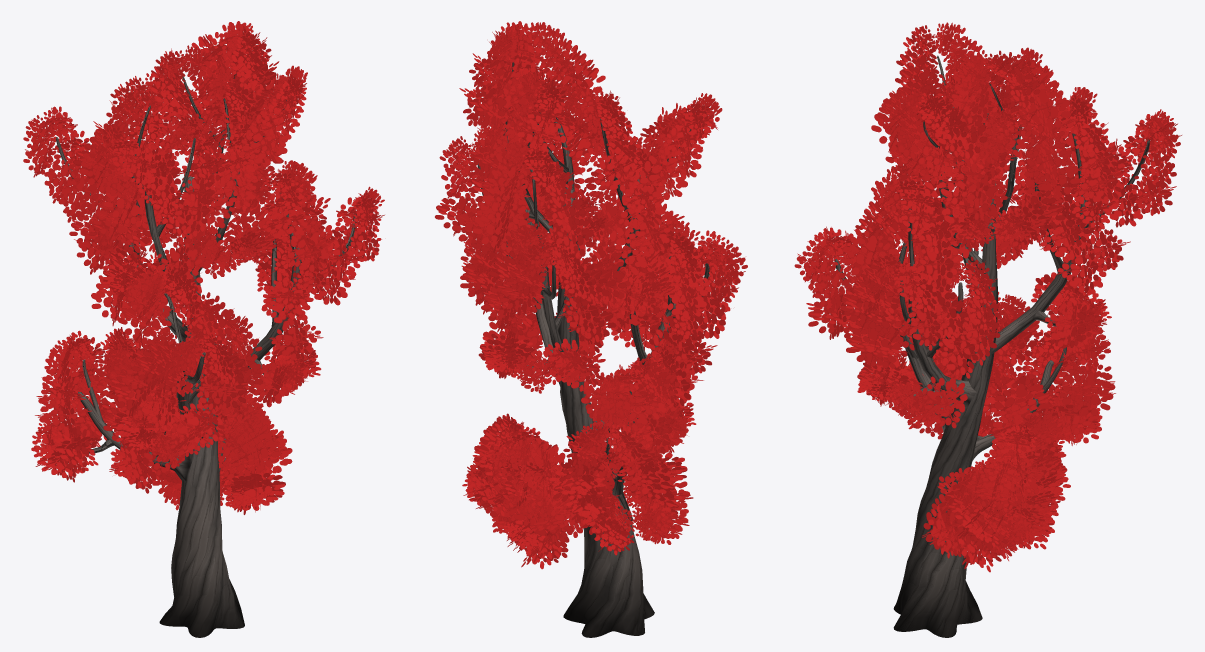
The model's file is TwistedTree_4.glb.
The picture shows the model from 3 angles, left to right: view 1: azimuth 30°, elevation 25°; view 2: azimuth 150°, elevation 25°; view 3: azimuth 270°, elevation 25°; orthographic projection. The views are drawn at different scales.
Bounding box in the file's own units: 10.38 × 18.74 × 11.29.
Materials: 2 (2 with a texture image).
